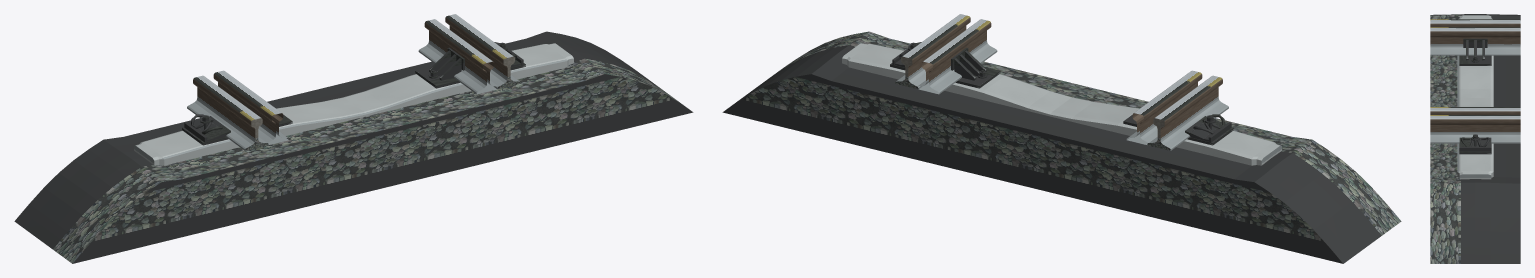
Rendered from outer_guard_high.obj.
3 renders of one model, left to right at view 1: azimuth 30°, elevation 25°; view 2: azimuth 150°, elevation 25°; view 3: azimuth 270°, elevation 25°, orthographic. The views are drawn at different scales.
Visible parts, largest first — view 1: ballast, sleeper, rail_left, outer_guard_right, outer_guard_left, rail_right, outer_fastener_right, fastener_left; view 2: ballast, sleeper, rail_left, outer_guard_right, outer_guard_left, rail_right, outer_fastener_right, fastener_left; view 3: ballast, sleeper, rail_right, outer_guard_left, rail_left, outer_guard_right, outer_fastener_left, fastener_right, outer_fastener_right.
Boxes of the visible parts, <box> form: ballast: <box>14,31,693,263</box>; sleeper: <box>134,43,573,165</box>; rail_left: <box>187,75,266,150</box>; outer_guard_right: <box>418,19,498,94</box>; outer_guard_left: <box>213,70,289,144</box>; rail_right: <box>445,14,519,88</box>; outer_fastener_right: <box>415,47,525,88</box>; fastener_left: <box>184,114,230,142</box>; ballast: <box>722,31,1401,263</box>; sleeper: <box>842,43,1281,165</box>; rail_left: <box>1149,75,1228,150</box>; outer_guard_right: <box>917,19,997,94</box>; outer_guard_left: <box>1126,70,1202,144</box>; rail_right: <box>896,14,970,88</box>; outer_fastener_right: <box>890,47,1000,88</box>; fastener_left: <box>1185,114,1231,142</box>; ballast: <box>1430,14,1520,263</box>; sleeper: <box>1457,15,1493,179</box>; rail_right: <box>1430,115,1520,143</box>; outer_guard_left: <box>1430,27,1520,55</box>; rail_left: <box>1430,19,1520,27</box>; outer_guard_right: <box>1430,107,1520,114</box>; outer_fastener_left: <box>1459,38,1491,65</box>; fastener_right: <box>1459,134,1491,151</box>; outer_fastener_right: <box>1459,144,1491,154</box>.
Bounding box in the file's own units: 3.7 × 0.5683 × 0.6.
